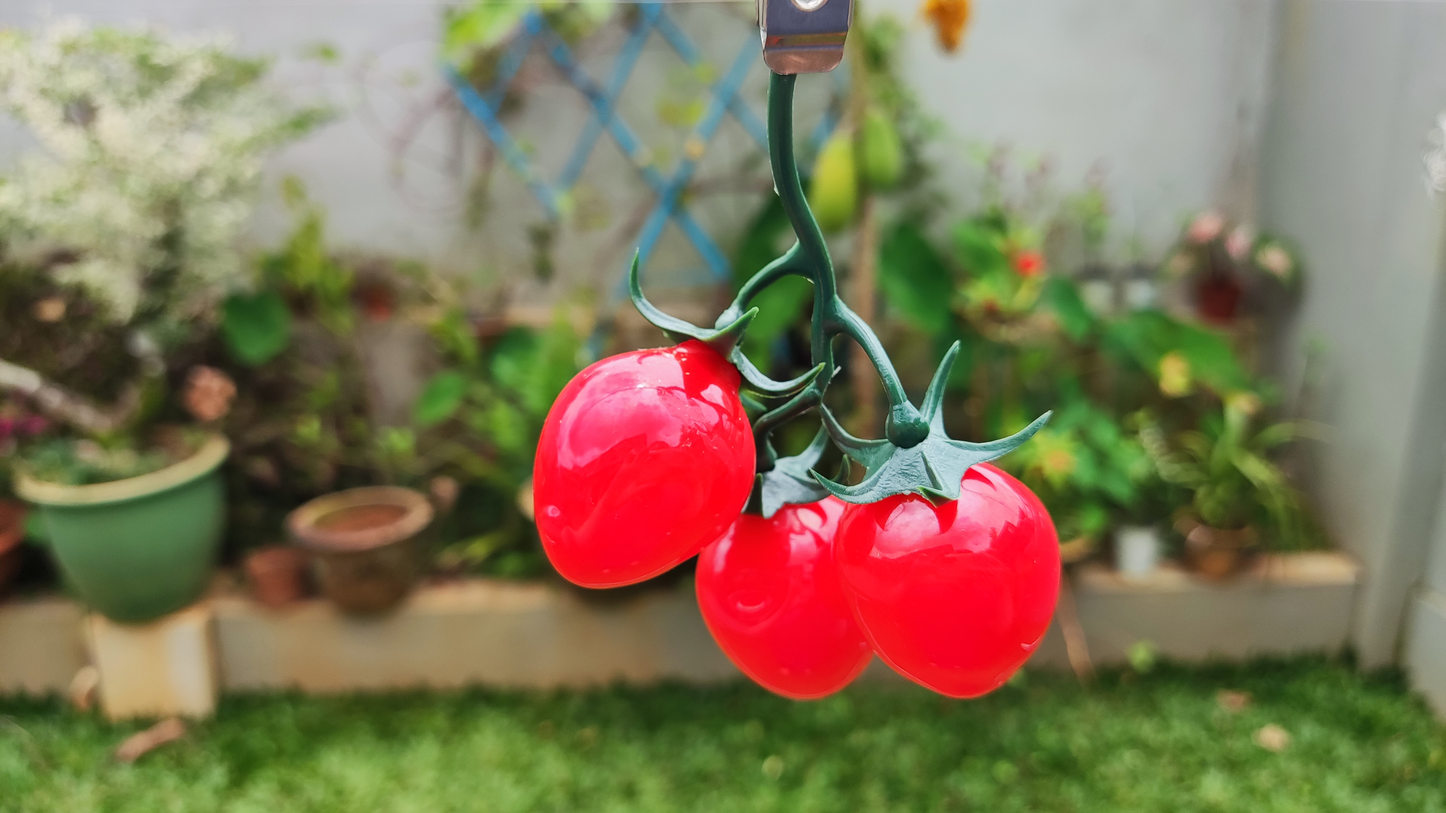peduncle: (768, 73, 820, 236)
strawberry: (532, 338, 756, 587), (834, 463, 1062, 698), (696, 496, 873, 700)
